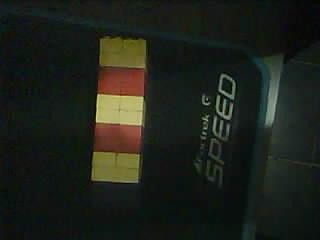lego: (90, 33, 149, 185)
